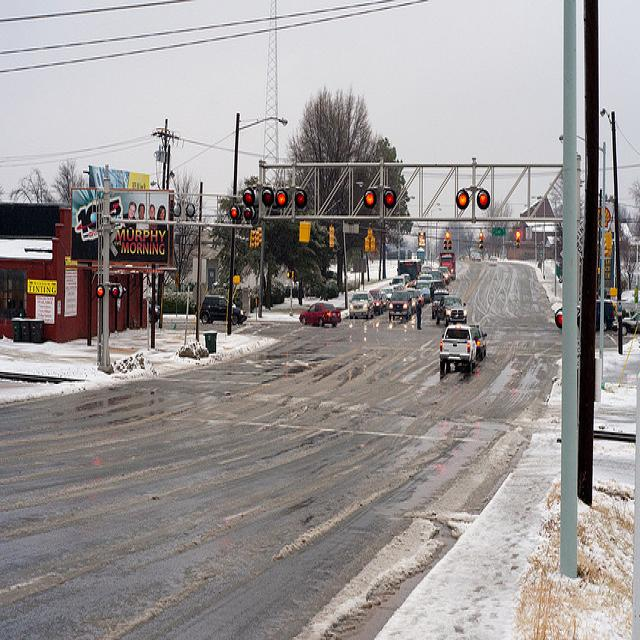Vehicle: (369, 248, 483, 315), (438, 324, 476, 378), (200, 294, 247, 324), (298, 302, 342, 328), (435, 296, 467, 327), (388, 290, 412, 322), (350, 291, 375, 319), (470, 323, 488, 361), (440, 253, 457, 281), (622, 311, 640, 336), (415, 281, 432, 303), (406, 290, 419, 313), (438, 266, 451, 286), (392, 276, 406, 284), (488, 256, 497, 267)
